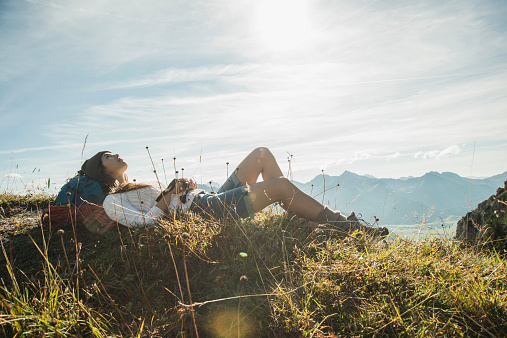deitado: (42, 137, 152, 228)
